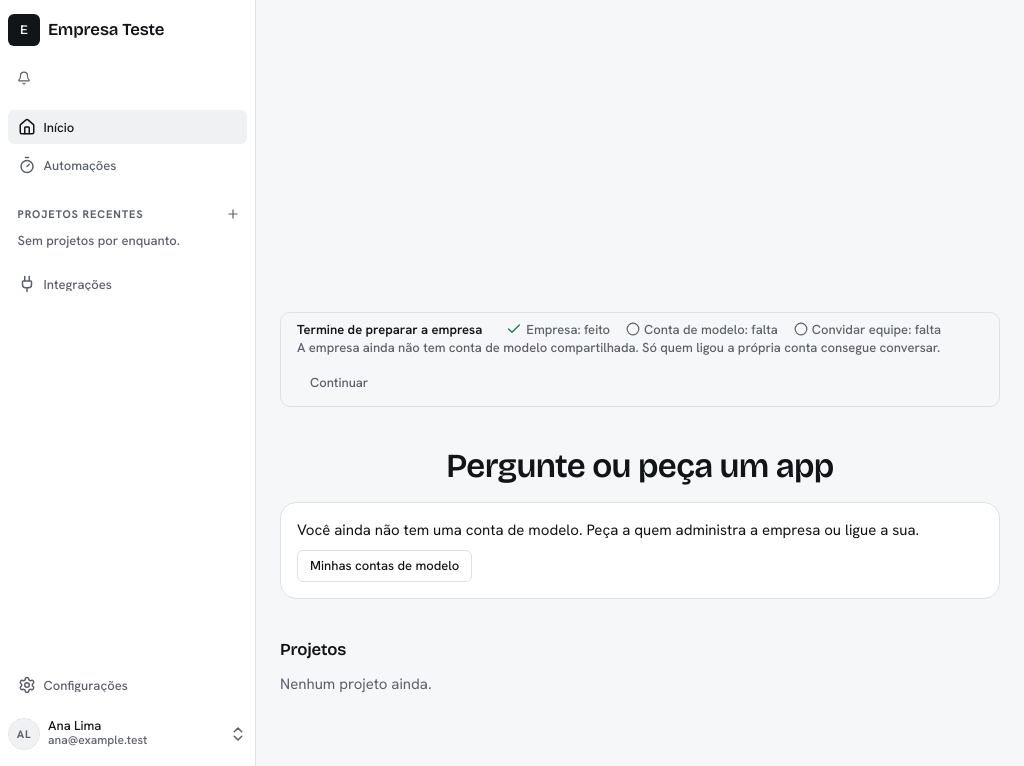
Test case: Continuar abre a seção que falta: Contas de modelo quando falta a conta
The image size is (1024, 766).
(page scrolled)
Click the link "Continuar" at (339, 382), box [310,374,368,390]
(page scrolled)
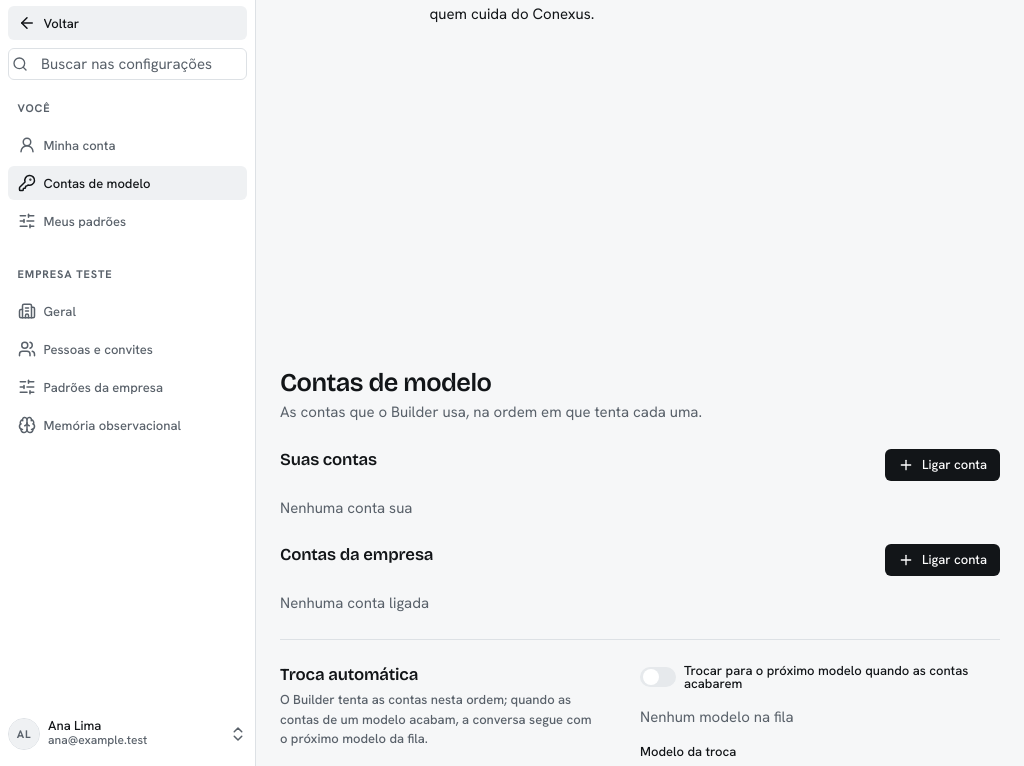
Expected: the heading "Contas de modelo" is shown, [280,367,491,398]
Expected: the heading "Termine de preparar a empresa" is gone
